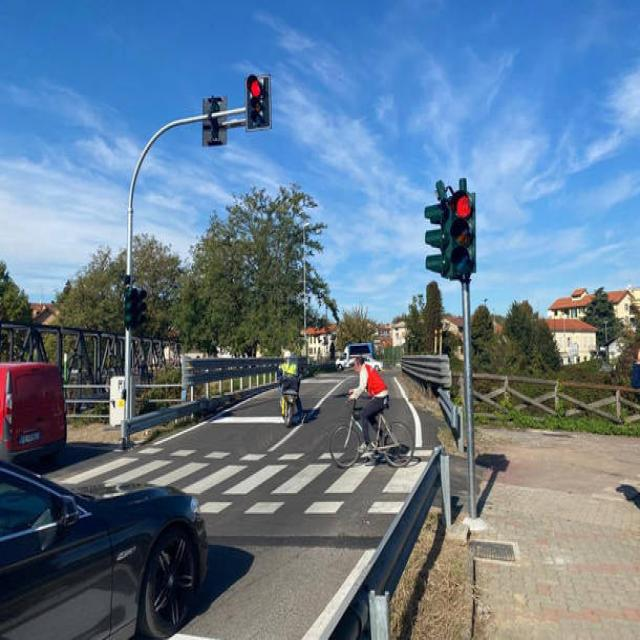Pedestrian crosswalk: (75, 448, 439, 502)
